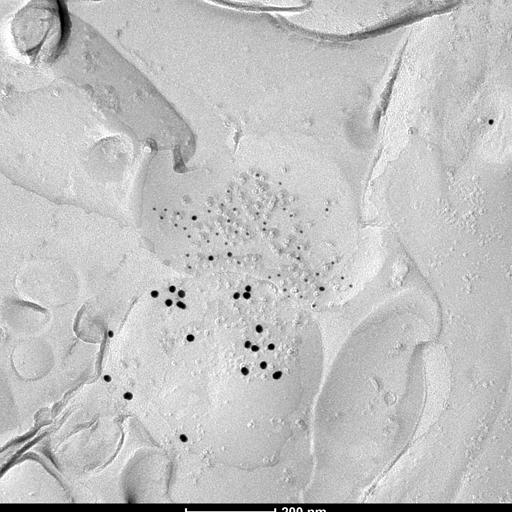1: (317, 285, 325, 293), (206, 254, 214, 262), (225, 251, 233, 259), (191, 214, 199, 222)
6 nm Particle: (311, 303, 317, 309), (298, 294, 304, 300), (282, 287, 288, 293), (303, 277, 309, 283), (339, 275, 345, 281), (275, 272, 281, 278), (314, 271, 320, 277), (330, 260, 336, 266), (223, 240, 229, 246), (205, 238, 211, 244), (214, 231, 220, 237), (233, 229, 239, 235), (261, 226, 267, 232), (261, 220, 267, 226), (226, 218, 232, 224), (254, 210, 260, 216), (206, 209, 212, 215), (231, 206, 237, 212), (282, 206, 288, 212), (225, 189, 231, 195), (254, 172, 260, 178), (266, 274, 272, 280), (285, 294, 291, 300), (347, 283, 353, 289), (294, 257, 300, 263), (296, 245, 302, 251), (297, 228, 303, 234), (288, 213, 294, 219), (277, 180, 283, 186), (186, 232, 192, 238), (182, 224, 188, 230), (175, 211, 181, 217), (173, 222, 179, 228), (187, 265, 193, 271), (158, 215, 164, 221), (162, 207, 168, 213), (152, 206, 158, 212), (235, 261, 241, 267), (245, 232, 251, 238), (219, 201, 225, 207), (184, 252, 190, 258)
